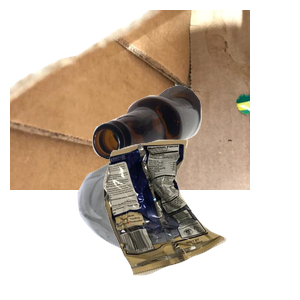cardboard: (10, 10, 250, 190)
glass: (90, 83, 300, 235)
plastic: (75, 154, 248, 300)
trash: (101, 137, 300, 300)
